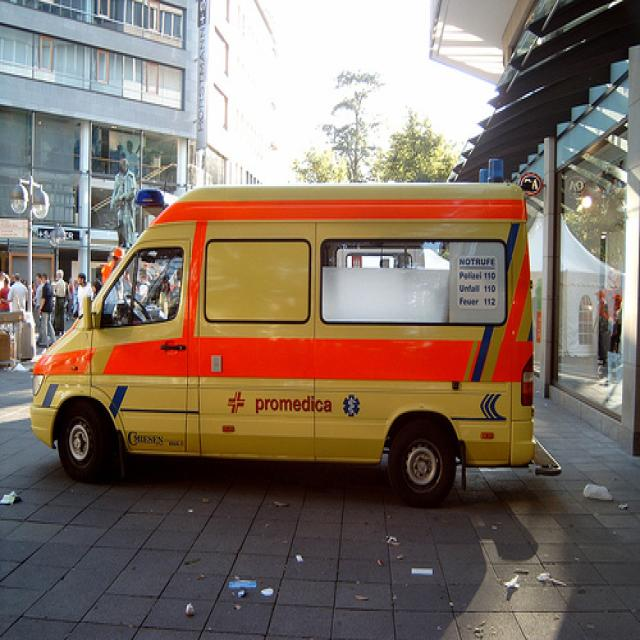emergency-vehicle: (32, 181, 538, 502)
